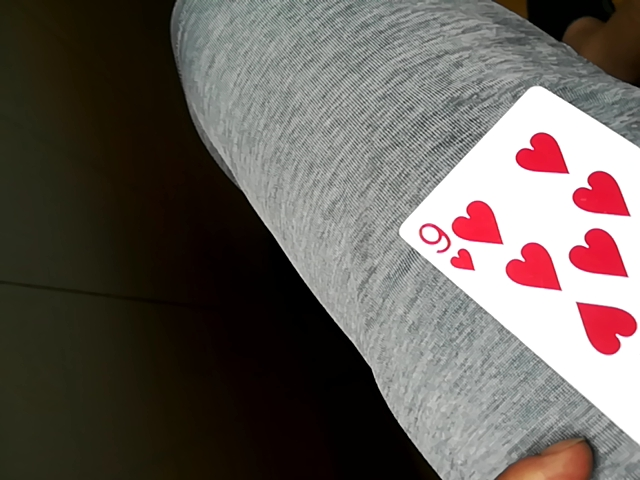hx 9: (397, 89, 639, 455)
